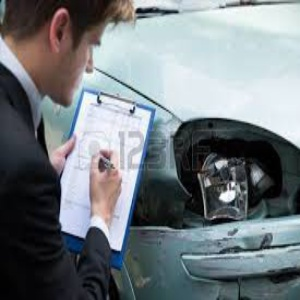bumper: (132, 222, 258, 300)
head_lights: (179, 159, 288, 219)
